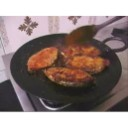seerfish: (43, 66, 95, 86), (24, 46, 58, 71), (65, 55, 109, 71), (57, 45, 102, 60)
